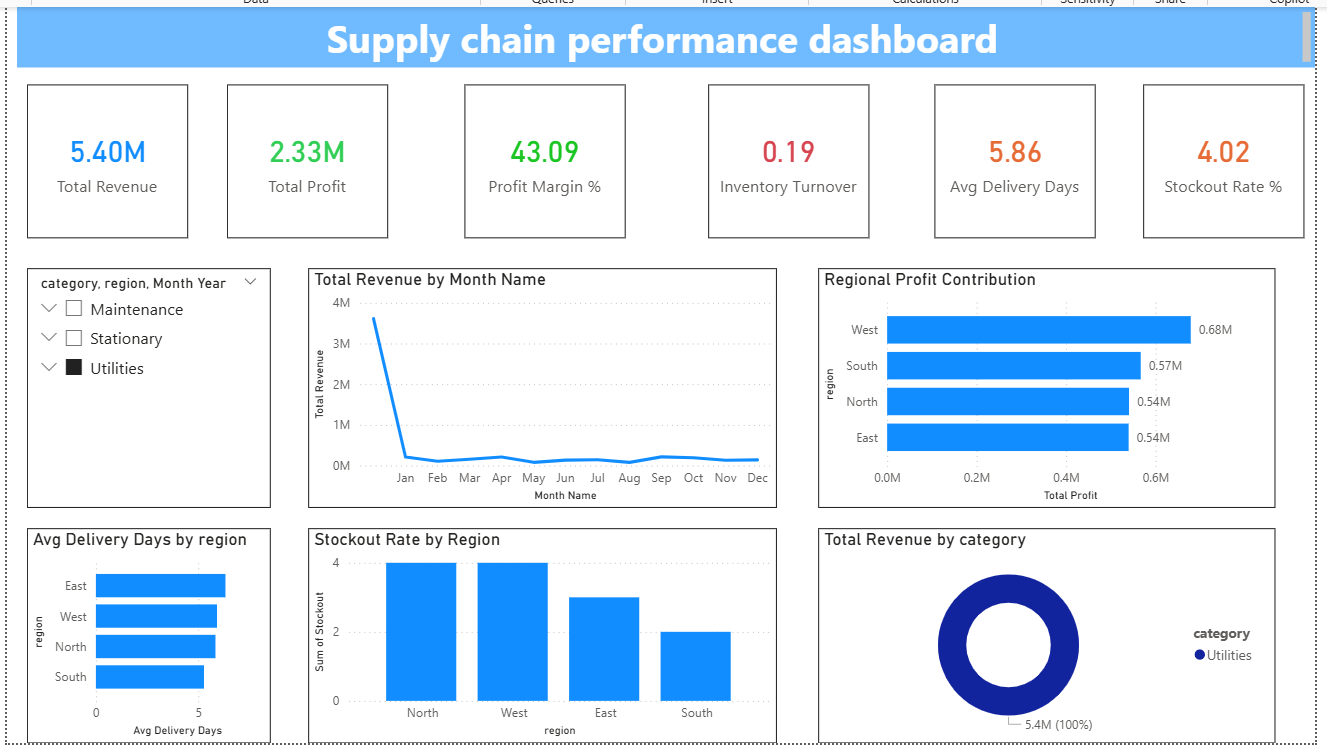

Layout of this report page (visuals, bound fields, positions):
{"tool":"powerbi","page":{"name":"Executive Overview","canvas":[1280,720],"ordinal":0},"visuals":[{"type":"textbox","box":[9.6,0,1270.7,59],"z":0},{"type":"card","fields":{"Values":["supply_chain_cleaned.Total Revenue"]},"box":[19.9,75.2,157.6,150.5],"z":1000},{"type":"card","fields":{"Values":["supply_chain_cleaned.Total Profit"]},"box":[215.7,75.2,157.6,150.5],"z":2000},{"type":"card","fields":{"Values":["supply_chain_cleaned.Profit Margin %"]},"box":[447.1,75.2,157.6,150.5],"z":3000},{"type":"card","fields":{"Values":["supply_chain_cleaned.Inventory Turnover"]},"box":[685.6,75.2,157.6,150.5],"z":4000},{"type":"card","fields":{"Values":["supply_chain_cleaned.Avg Delivery Days"]},"box":[907,75.2,157.6,150.5],"z":5000},{"type":"card","fields":{"Values":["supply_chain_cleaned.Stockout Rate %"]},"box":[1111.4,75.2,157.6,150.5],"z":6000},{"type":"barChart","title":"Regional Profit Contribution","fields":{"Category":["supply_chain_cleaned.region"],"Y":["supply_chain_cleaned.Total Profit"]},"box":[793.4,255.5,447.1,234.2],"z":7000},{"type":"lineChart","fields":{"Category":["supply_chain_cleaned.Month Name"],"Y":["supply_chain_cleaned.Total Revenue"]},"box":[295.2,255.5,458.5,234.2],"z":8000},{"type":"donutChart","fields":{"Category":["supply_chain_cleaned.category"],"Y":["supply_chain_cleaned.Total Revenue"]},"box":[793.4,509.6,447.1,210.1],"z":9000},{"type":"slicer","fields":{"Values":["supply_chain_cleaned.category","supply_chain_cleaned.region","supply_chain_cleaned.Month Year"]},"box":[19.9,255.5,238.5,234.2],"z":10000},{"type":"clusteredColumnChart","title":"Stockout Rate by Region","fields":{"Category":["supply_chain_cleaned.region"],"Y":["Sum(supply_chain_cleaned.Stockout)"]},"box":[295.2,509.6,458.5,210.1],"z":11000},{"type":"barChart","fields":{"Y":["supply_chain_cleaned.Avg Delivery Days"],"Category":["supply_chain_cleaned.region"]},"box":[20,510,238,210],"z":12000}]}

Visuals, with their boxes in screenshot pixels (x1, y1, x2, y2):
textbox: x1=13 y1=3 x2=1312 y2=64
card - supply_chain_cleaned.Total Revenue: x1=24 y1=80 x2=185 y2=234
card - supply_chain_cleaned.Total Profit: x1=224 y1=80 x2=385 y2=234
card - supply_chain_cleaned.Profit Margin %: x1=461 y1=80 x2=622 y2=234
card - supply_chain_cleaned.Inventory Turnover: x1=704 y1=80 x2=866 y2=234
card - supply_chain_cleaned.Avg Delivery Days: x1=931 y1=80 x2=1092 y2=234
card - supply_chain_cleaned.Stockout Rate %: x1=1140 y1=80 x2=1301 y2=234
"Regional Profit Contribution" barChart: x1=815 y1=265 x2=1272 y2=504
lineChart - supply_chain_cleaned.Month Name x supply_chain_cleaned.Total Revenue: x1=305 y1=265 x2=774 y2=504
donutChart - supply_chain_cleaned.category x supply_chain_cleaned.Total Revenue: x1=815 y1=524 x2=1272 y2=739
slicer - supply_chain_cleaned.category x supply_chain_cleaned.region: x1=24 y1=265 x2=268 y2=504
"Stockout Rate by Region" clusteredColumnChart: x1=305 y1=524 x2=774 y2=739
barChart - supply_chain_cleaned.Avg Delivery Days x supply_chain_cleaned.region: x1=24 y1=525 x2=267 y2=740
